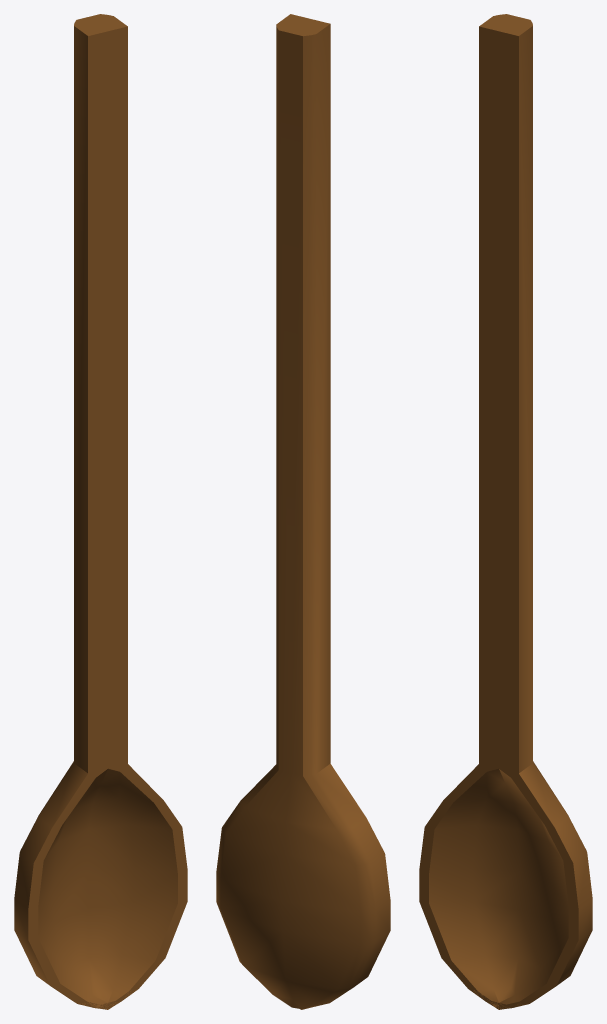
The model's file is decor_bigspoon.fbx.
3 views of the same model, side by side, from view 1: azimuth 30°, elevation 25°; view 2: azimuth 150°, elevation 25°; view 3: azimuth 330°, elevation 25° (orthographic).
Parts seen in each view (by area): view 1: decor_bigspoon; view 2: decor_bigspoon; view 3: decor_bigspoon.
Part boxes in pixels (<box>): decor_bigspoon: <box>14,14,187,1009</box>; decor_bigspoon: <box>216,14,390,1009</box>; decor_bigspoon: <box>419,14,592,1009</box>.
Size of the model in its own units: 17.95 by 105 by 5.55.
